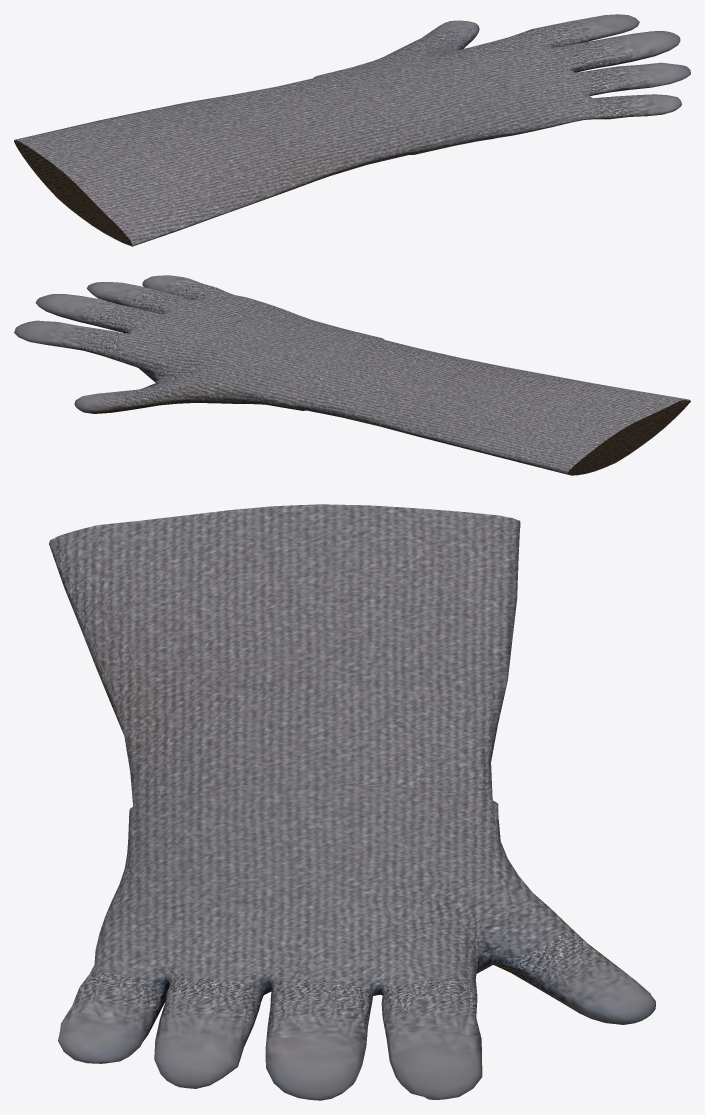
The model's file is firegloves.glb.
The picture shows the model from 3 angles, top to bottom: view 1: azimuth 30°, elevation 25°; view 2: azimuth 150°, elevation 25°; view 3: azimuth 270°, elevation 25°; orthographic projection. The views are drawn at different scales.
Visible parts, largest first — view 1: fire_gloves; view 2: fire_gloves; view 3: fire_gloves.
Part boxes in pixels (x1=…): fire_gloves: x1=14, y1=14, x2=690, y2=246; fire_gloves: x1=14, y1=275, x2=690, y2=475; fire_gloves: x1=49, y1=504, x2=655, y2=1100.
Bounding box in the file's own units: 0.1482 × 0.00878 × 0.0664.
Materials: 1 (1 with a texture image).
